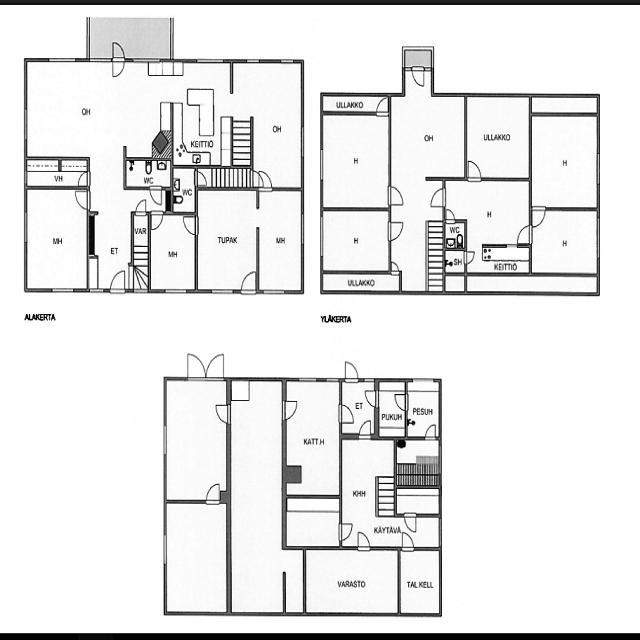door: (184, 350, 223, 380), (133, 210, 150, 250), (204, 351, 226, 379), (110, 41, 126, 78), (109, 267, 127, 293), (429, 185, 447, 210), (217, 90, 233, 117), (254, 168, 274, 189), (387, 184, 405, 206), (343, 359, 360, 382), (240, 268, 256, 292), (213, 402, 231, 423), (388, 218, 405, 240), (282, 398, 299, 420), (182, 212, 198, 235), (466, 157, 482, 180), (356, 528, 372, 550), (74, 188, 90, 210), (338, 402, 354, 424), (205, 480, 221, 502), (402, 518, 416, 543), (531, 205, 546, 228), (337, 521, 354, 541), (516, 223, 532, 244), (149, 208, 164, 230), (403, 511, 418, 533), (150, 184, 164, 207), (400, 530, 416, 550), (411, 66, 426, 87), (374, 96, 389, 116), (394, 391, 409, 411), (358, 417, 372, 438), (364, 388, 378, 407), (195, 168, 209, 187), (76, 170, 90, 188), (424, 421, 437, 440), (134, 197, 148, 214), (463, 249, 476, 264), (444, 207, 456, 222)
window: (326, 102, 384, 116), (226, 422, 233, 493), (387, 118, 393, 192), (188, 54, 224, 66), (128, 54, 164, 65), (46, 53, 78, 65), (595, 147, 602, 196), (22, 104, 31, 142), (318, 214, 325, 259), (595, 214, 601, 262), (161, 422, 169, 457), (209, 286, 235, 296), (294, 374, 320, 384), (22, 209, 29, 245), (318, 147, 325, 183), (87, 54, 112, 64), (299, 208, 305, 246), (164, 286, 188, 295), (262, 287, 286, 296), (51, 285, 75, 294), (410, 376, 436, 384), (162, 533, 168, 564)
zone: (24, 59, 160, 158), (232, 58, 302, 187), (165, 377, 228, 499), (165, 500, 228, 612), (320, 110, 390, 207), (389, 92, 466, 180), (302, 547, 400, 614), (530, 113, 599, 208), (25, 186, 88, 290), (341, 434, 397, 548), (285, 380, 340, 496), (197, 189, 257, 292), (170, 63, 230, 165), (446, 179, 531, 245), (465, 94, 530, 178), (257, 188, 302, 292), (530, 208, 598, 276), (322, 208, 391, 270), (150, 210, 195, 290), (284, 495, 341, 547), (399, 548, 440, 615), (396, 438, 440, 486), (467, 244, 532, 275), (406, 380, 439, 438), (376, 379, 406, 435), (126, 156, 170, 189), (326, 274, 393, 292), (396, 488, 441, 514), (172, 166, 196, 213), (133, 212, 149, 254), (444, 220, 466, 248), (444, 248, 465, 272)
